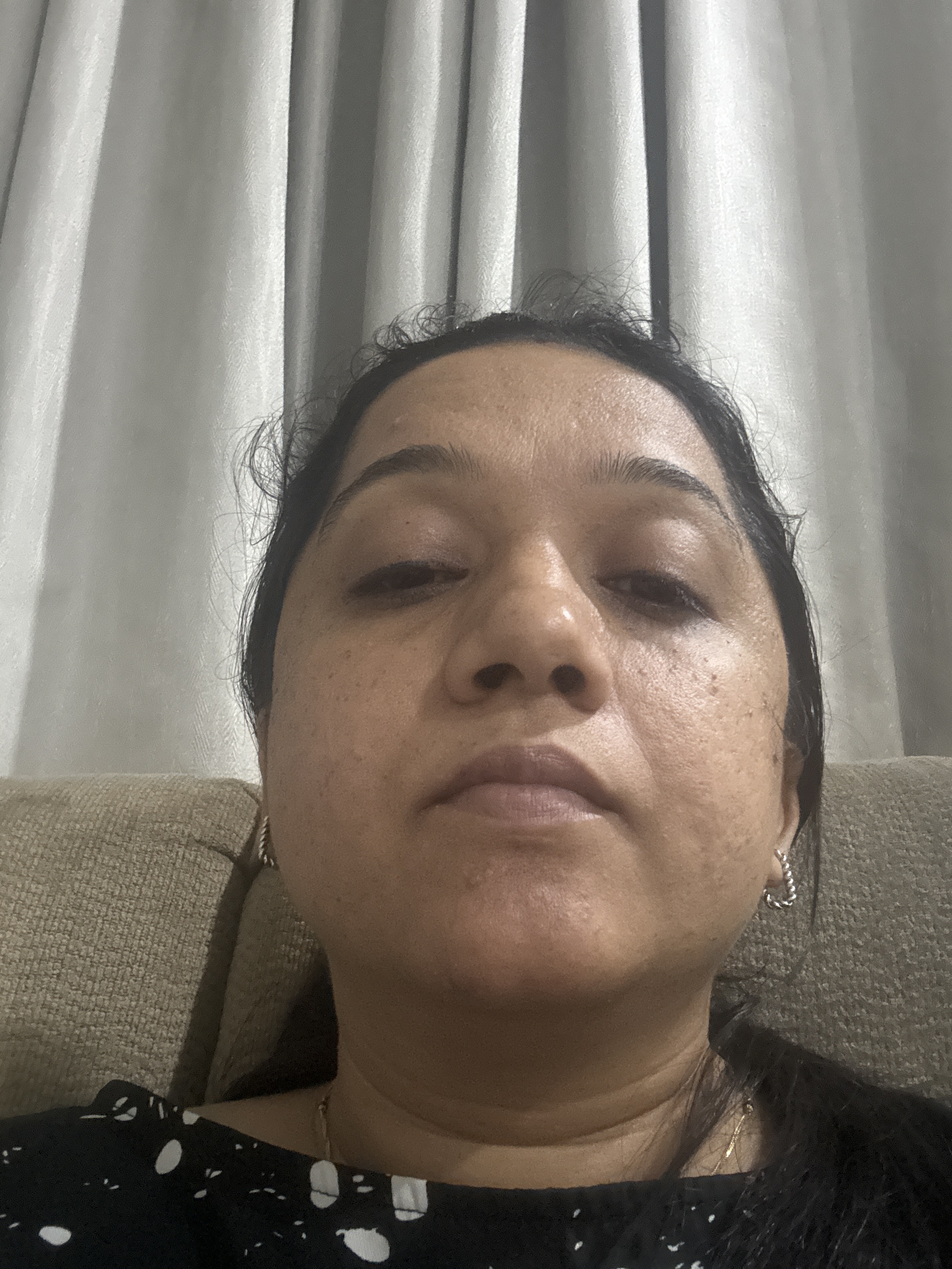papule: (454, 867, 494, 898)
